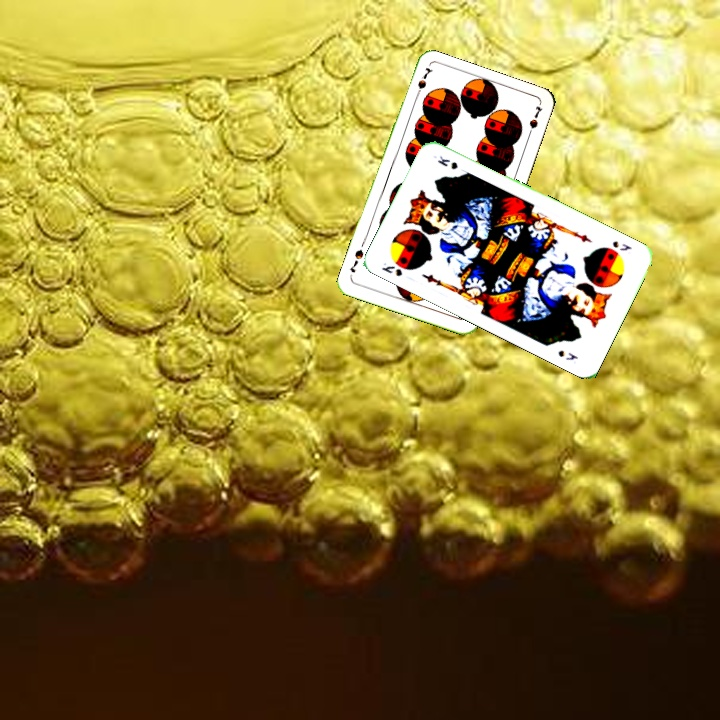S7: (411, 63, 433, 103)
SK: (377, 258, 405, 279), (608, 237, 634, 253)
